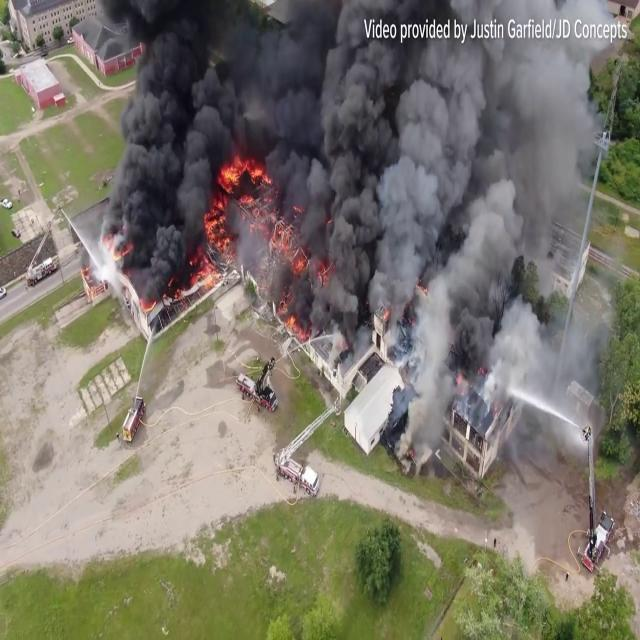Smoke: (97, 0, 617, 308), (310, 0, 580, 462)
